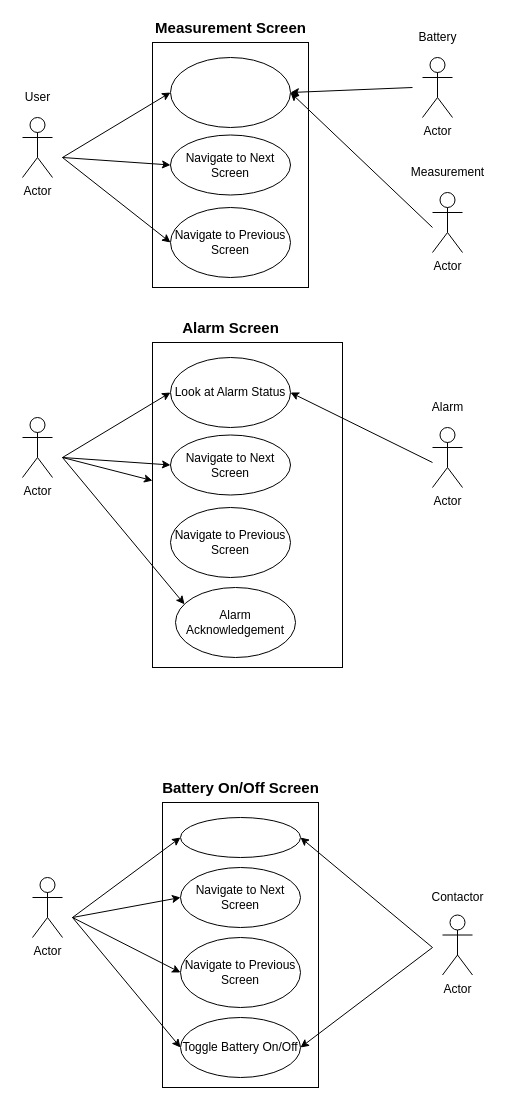
The diagram is 509 pixels wide and 1105 high, and some of its shapes have lost their labels. Here are the shapes that lost their labels. From the top down, the centre of each, then its label:
At pixel 230 92: "Look at Measurement Data".
At pixel 240 837: "Look at Battery Status".
